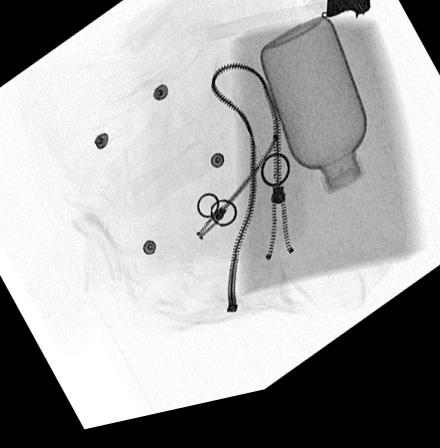Gun: (326, 0, 369, 34)
